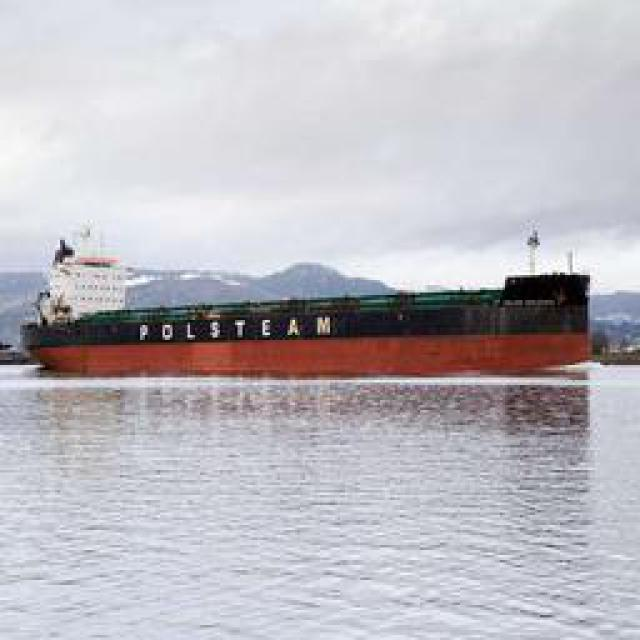Ship: (26, 285, 614, 383)
